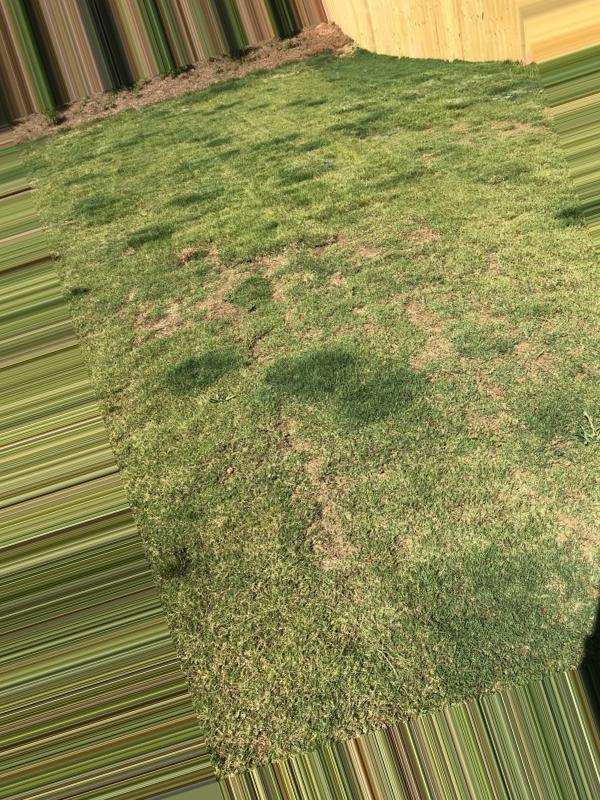patch: (287, 416, 350, 580), (476, 472, 582, 558), (391, 312, 509, 376), (153, 294, 260, 340), (204, 241, 288, 281)
